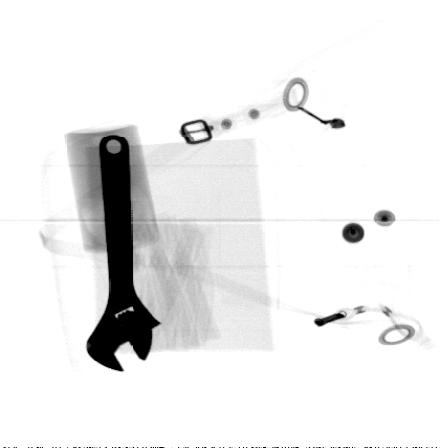Wrench: (85, 133, 165, 373)
